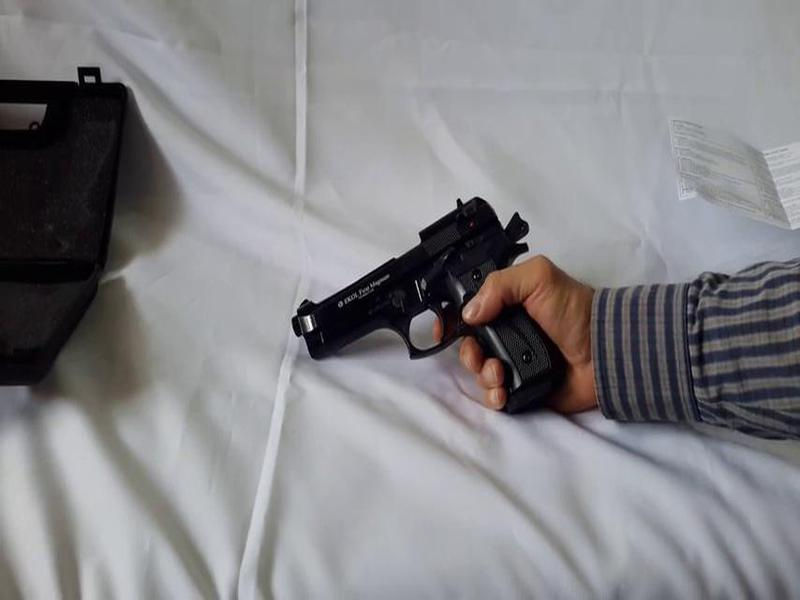Pistola: (288, 188, 577, 414)
